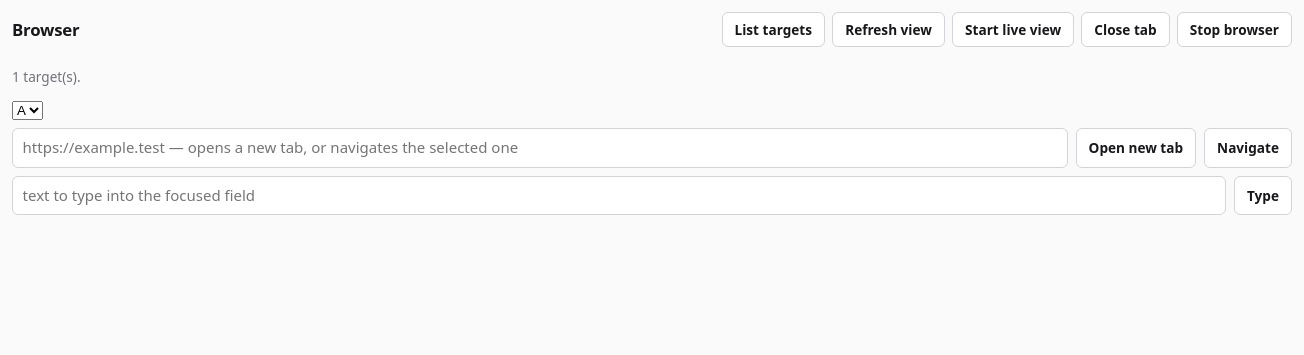
it: BrowserPane › captures one live frame per 1.5 s and counts them
Expected: the text "1 target(s)." is shown, [12,67,81,86]
Click the button "Start live view" at (1013, 30), box [952,12,1074,47]
Wait 4500 ms
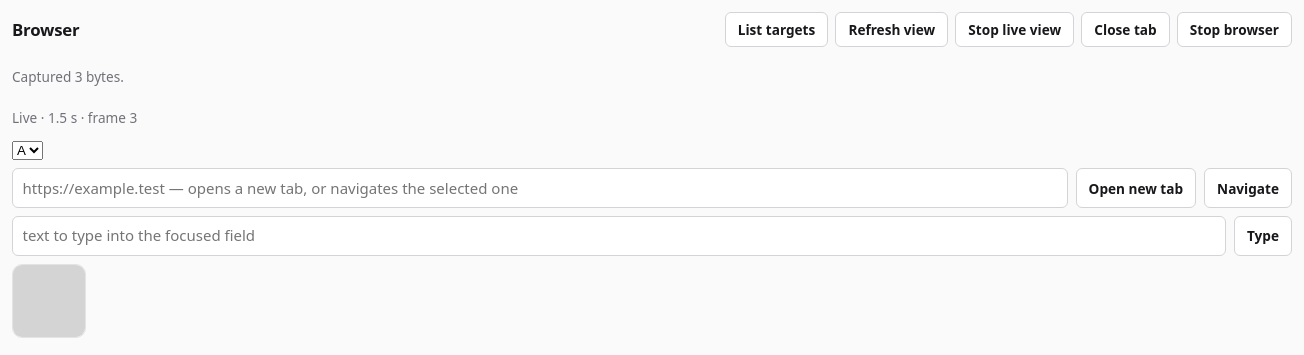
Expected: the button "Stop live view" is shown, [955,12,1074,47]
Expected: the text "Live · 1.5 s · frame 3" is shown, [12,108,137,127]
